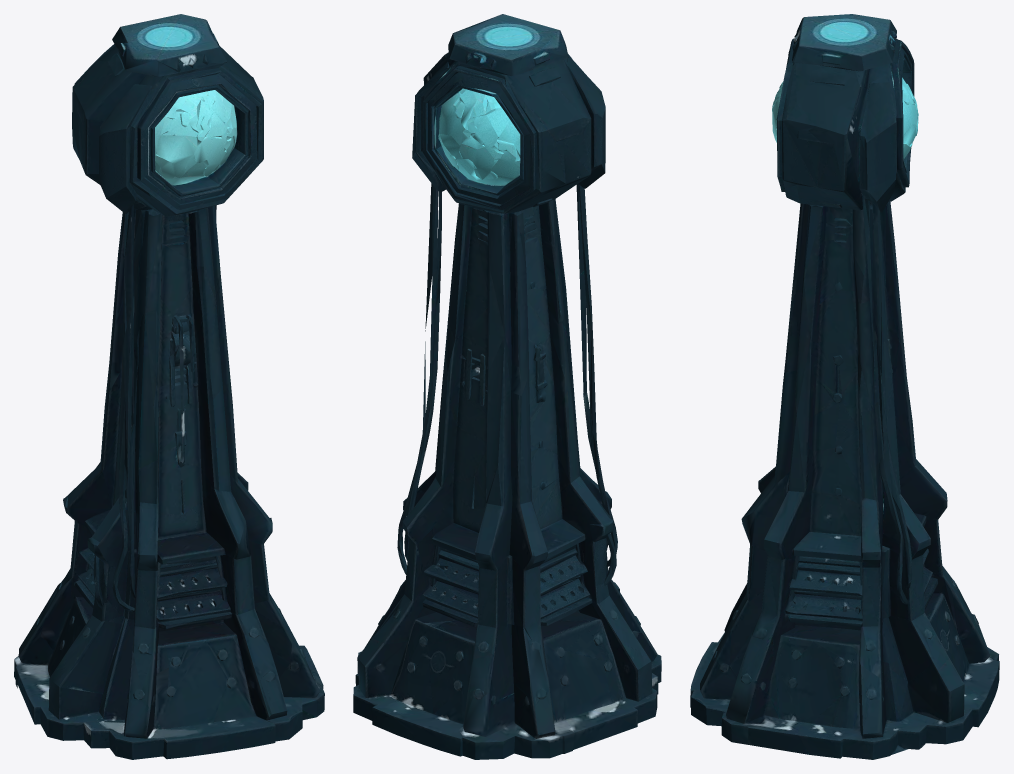
File: mx_sg_generator.glb
The picture shows the model from 3 angles, left to right: view 1: azimuth 30°, elevation 25°; view 2: azimuth 150°, elevation 25°; view 3: azimuth 270°, elevation 25°; orthographic projection.
Size of the model in its own units: 0.8195 by 1.9 by 0.8058.
Materials: 1 (1 with a texture image).
